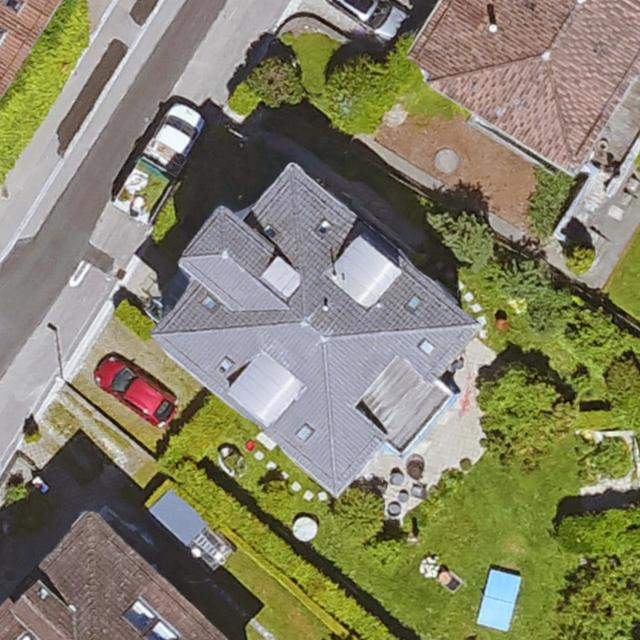tree: (479, 366, 571, 465), (558, 559, 639, 640), (324, 55, 393, 130), (331, 483, 386, 543), (496, 257, 553, 313), (252, 56, 304, 107), (441, 217, 493, 265), (604, 354, 640, 420), (2, 487, 45, 528), (566, 244, 596, 276)
